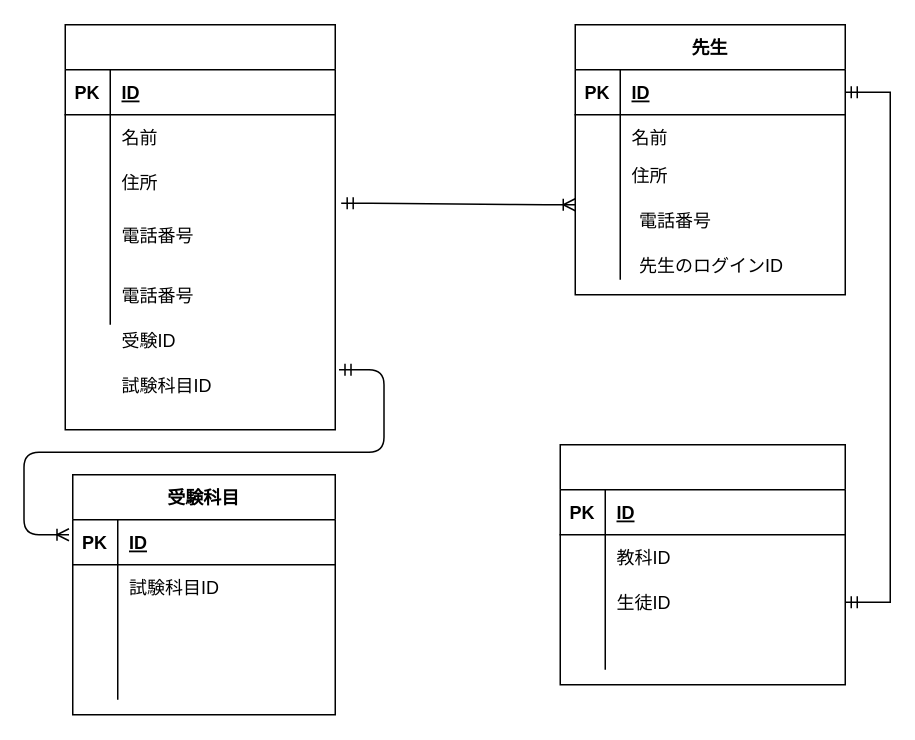
This 915x740 diagram has some shape labels left out. The shapes that lost their labels are listed below. From the top down, each one's box as (x1, y1, x2, y2) in pixels, then its label:
(64, 23, 335, 430): 生徒
(559, 443, 845, 685): 採点
